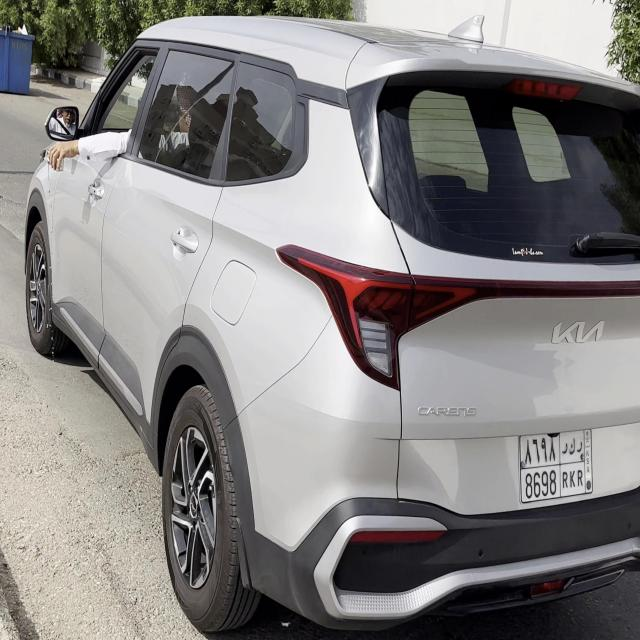Car-plate: (513, 418, 607, 519)
